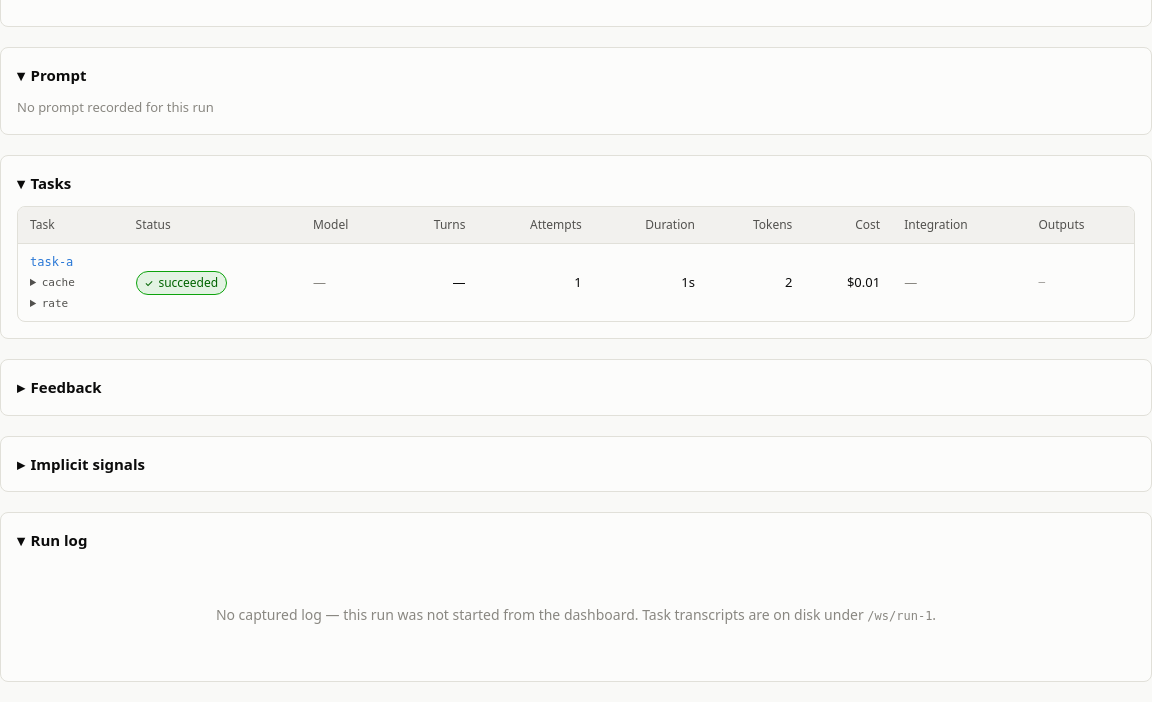
implicit signals + survival › fetches survival only on demand and shows unavailable state
(page scrolled)
Click the button "▸ Implicit signals".
click(81, 464)  # box top-left (17, 453), bottom-right (145, 475)
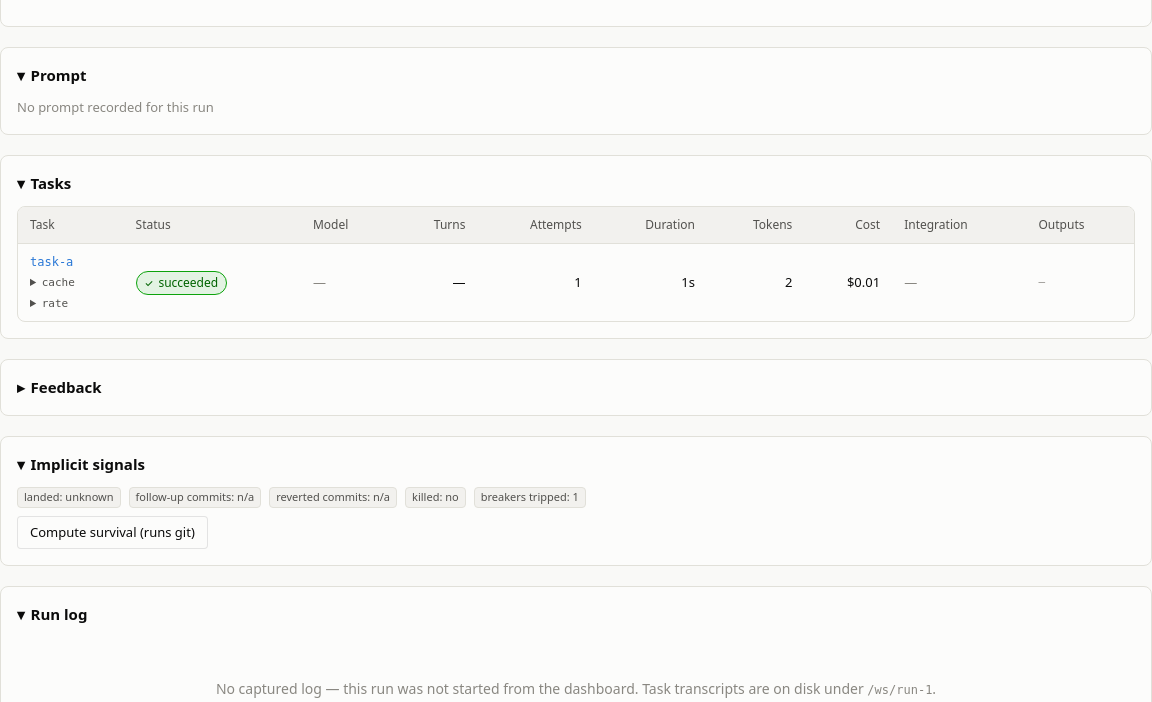
expect the text "breakers tripped: 1" is shown: met, box top-left (474, 487), bottom-right (586, 508)
Click the button "Compute survival (runs git)".
click(112, 532)  # box top-left (17, 516), bottom-right (208, 549)
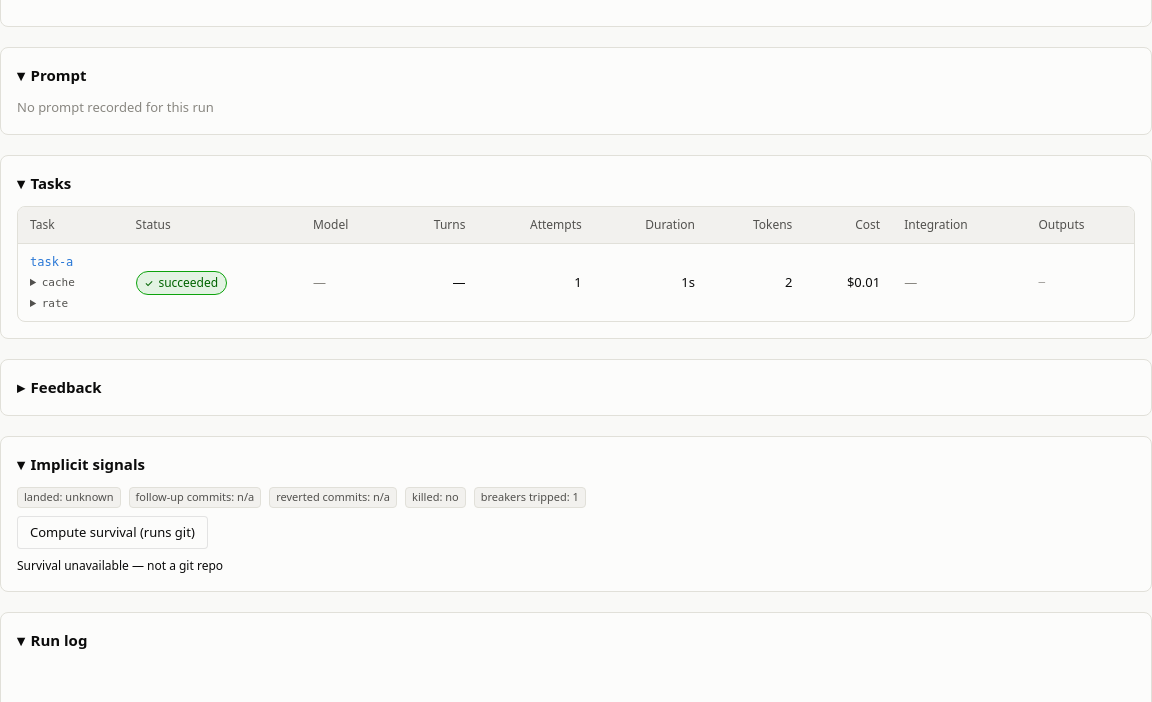
expect the text "Survival unavailable — not a git repo" is shown: met, box top-left (17, 557), bottom-right (223, 574)
